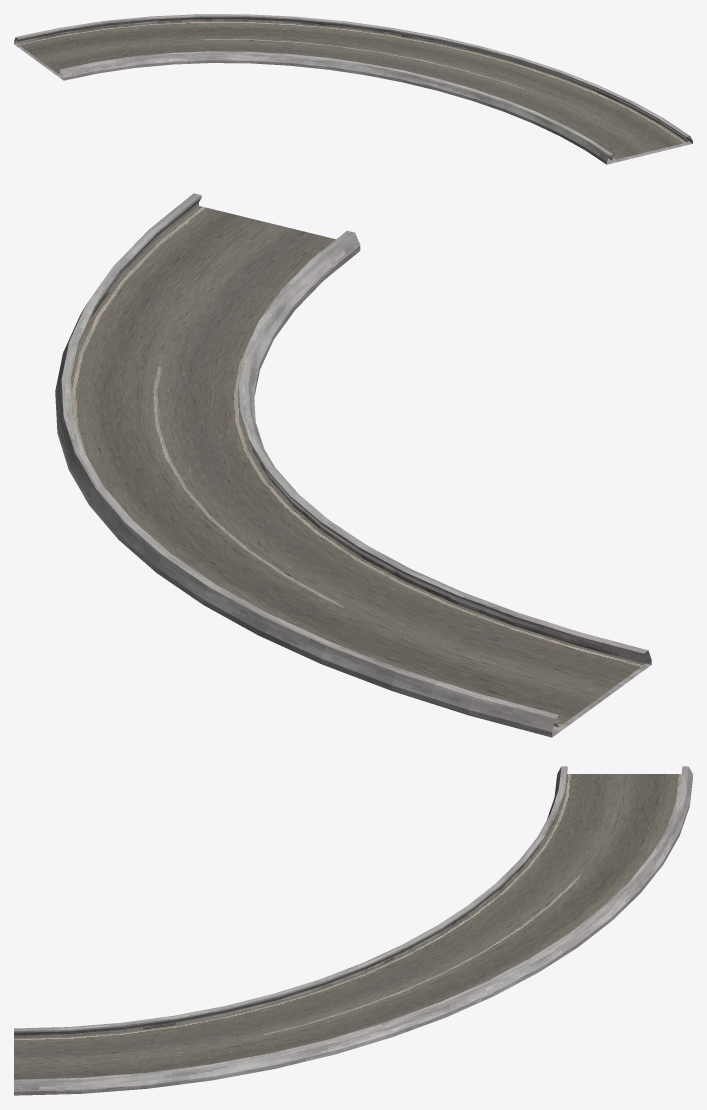
File: turn-left5x5.glb
3 views of the same model, one above another, from view 1: azimuth 30°, elevation 25°; view 2: azimuth 150°, elevation 25°; view 3: azimuth 270°, elevation 25° (orthographic). The views are drawn at different scales.
Parts seen in each view (by area): view 1: road-Turn-Flat-Flat-Up1-Left-Size5; view 2: road-Turn-Flat-Flat-Up1-Left-Size5; view 3: road-Turn-Flat-Flat-Up1-Left-Size5.
Part boxes in pixels (box(x1,y1,x2,y2)): road-Turn-Flat-Flat-Up1-Left-Size5: box(14, 14, 692, 164); road-Turn-Flat-Flat-Up1-Left-Size5: box(55, 193, 651, 737); road-Turn-Flat-Flat-Up1-Left-Size5: box(14, 766, 692, 1095).
Size of the model in its own units: 5 by 0.3438 by 5.
2 materials, 2 textured.
